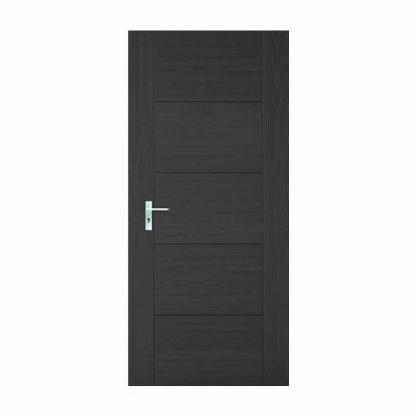door: (128, 30, 289, 385)
